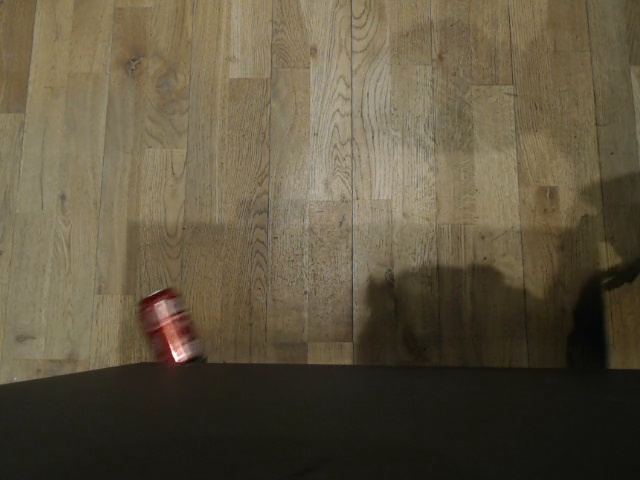cola: (138, 288, 207, 363)
